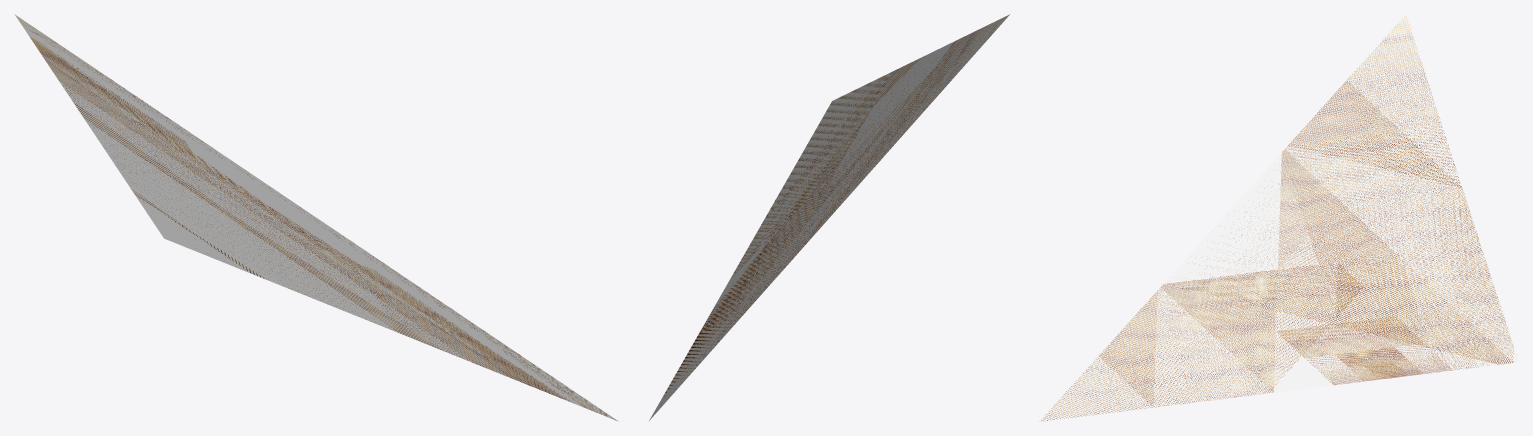
The model's file is 西庸城堡645.dae.
The picture shows the model from 3 angles, left to right: view 1: azimuth 30°, elevation 25°; view 2: azimuth 150°, elevation 25°; view 3: azimuth 270°, elevation 25°; orthographic projection. The views are drawn at different scales.
Parts seen in each view (by area): view 1: SketchUp; view 2: SketchUp; view 3: SketchUp.
Boxes of the visible parts, x1,y1,x2,y2 form: SketchUp: (14, 14, 618, 421); SketchUp: (649, 14, 1009, 420); SketchUp: (1039, 14, 1518, 421).
Size of the model in its own units: 70.05 by 97.77 by 59.05.
